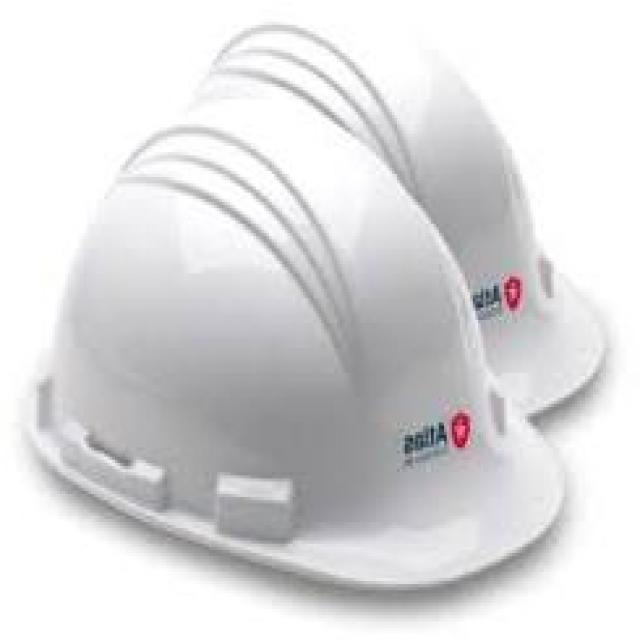Safety-Helmet: (16, 95, 567, 591), (209, 3, 614, 421)
